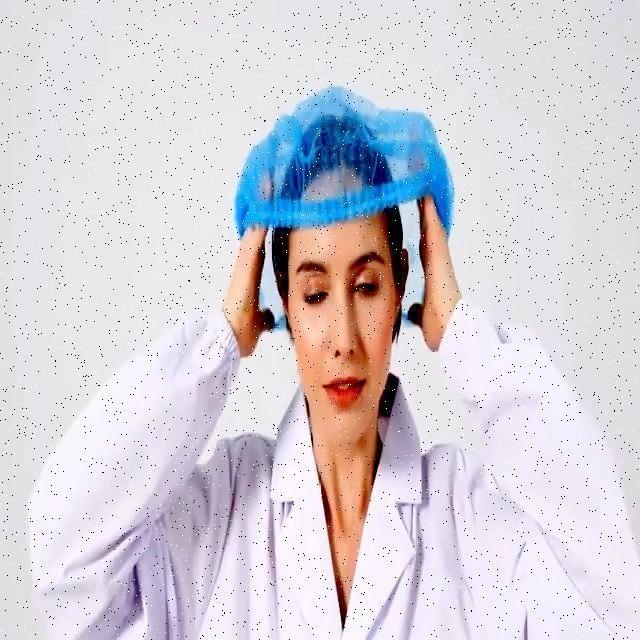gloves: (254, 96, 438, 206)
no_hairnet: (310, 319, 379, 422)
